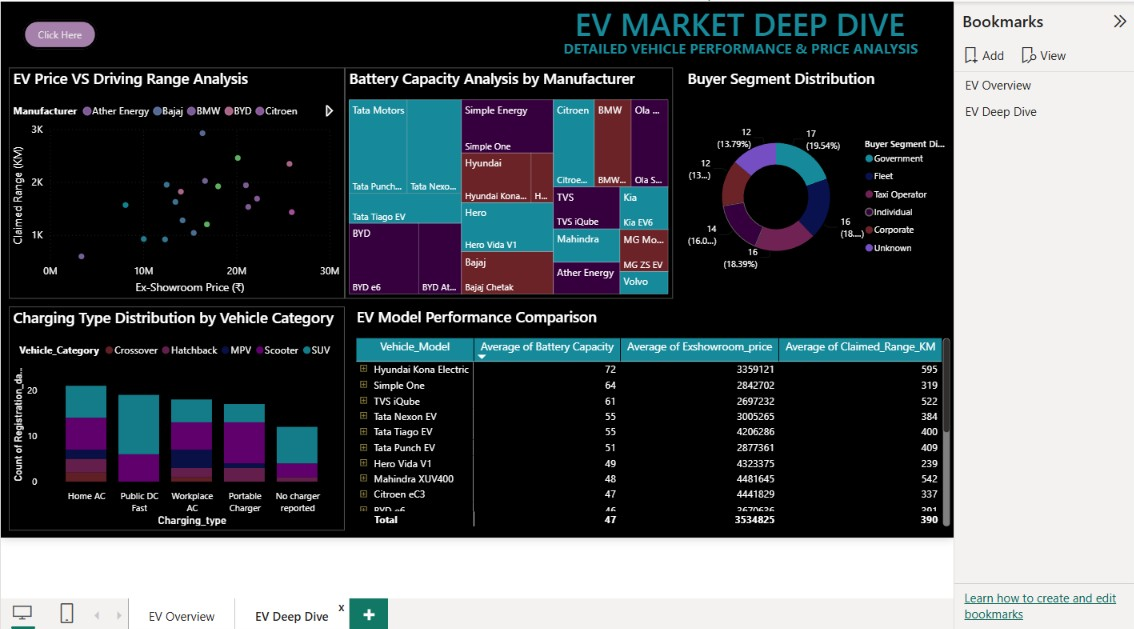

The dashboard page shown, as its layout file describes it:
{"tool":"powerbi","page":{"name":"EV Deep Dive","canvas":[1280,720],"ordinal":1},"visuals":[{"type":"textbox","title":"EV MARKET DEEP DIVE","box":[751.6,0,483.6,49.7],"z":0},{"type":"textbox","title":"DETAILED VEHICLE PERFORMANCE & PRICE ANALYSIS","box":[745.6,49.5,497.1,29.6],"z":1000},{"type":"scatterChart","title":"EV Price VS Driving Range Analysis","fields":{"X":["Sum(EV_Market_Cleaned.Exshowroom_price)"],"Y":["Sum(EV_Market_Cleaned.Claimed_Range_KM)"],"Category":["EV_Market_Cleaned.Vehicle_Model"],"Series":["EV_Market_Cleaned.Manufacturer"]},"box":[10.7,88.7,451.4,310.3],"z":2000},{"type":"treemap","title":"Battery Capacity Analysis by Manufacturer","fields":{"Group":["EV_Market_Cleaned.Manufacturer"],"Values":["Sum(EV_Market_Cleaned.Battery Capacity)"],"Details":["EV_Market_Cleaned.Vehicle_Model"]},"box":[462.1,88.1,440.6,310.3],"z":2001},{"type":"columnChart","title":"Charging Type Distribution by Vehicle Category","fields":{"Category":["EV_Market_Cleaned.Charging_type"],"Y":["Count(EV_Market_Cleaned.Registration_date)"],"Series":["EV_Market_Cleaned.Vehicle_Category"]},"box":[10.7,409.7,451.4,300.9],"z":2002},{"type":"donutChart","title":"Buyer Segment Distribution","fields":{"Category":["EV_Market_Cleaned.Buyer_Segment"],"Y":["CountNonNull(EV_Market_Cleaned.Buyer_Segment)"]},"box":[916.9,88.1,363.1,310.1],"z":2003},{"type":"pivotTable","title":"EV Model Performance Comparison","fields":{"Rows":["EV_Market_Cleaned.Vehicle_Model","EV_Market_Cleaned.Manufacturer"],"Values":["Avg(EV_Market_Cleaned.Battery Capacity)","Avg(EV_Market_Cleaned.Exshowroom_price)","Avg(EV_Market_Cleaned.Claimed_Range_KM)"]},"box":[472.9,410.2,807.1,300.4],"z":2004},{"type":"actionButton","box":[29.6,24.2,100,40],"z":2008}]}

Visuals, with their boxes on the page's 1280x720 design canvas (x1, y1, x2, y2). These are canvas units, not pixel positions in the 1134x629 screenshot, which may show the page scaled, cropped or inside an application window:
"EV MARKET DEEP DIVE" textbox: 752 0 1235 50
"DETAILED VEHICLE PERFORMANCE & PRICE ANALYSIS" textbox: 746 50 1243 79
"EV Price VS Driving Range Analysis" scatterChart: 11 89 462 399
"Battery Capacity Analysis by Manufacturer" treemap: 462 88 903 398
"Charging Type Distribution by Vehicle Category" columnChart: 11 410 462 711
"Buyer Segment Distribution" donutChart: 917 88 1280 398
"EV Model Performance Comparison" pivotTable: 473 410 1280 711
actionButton: 30 24 130 64
